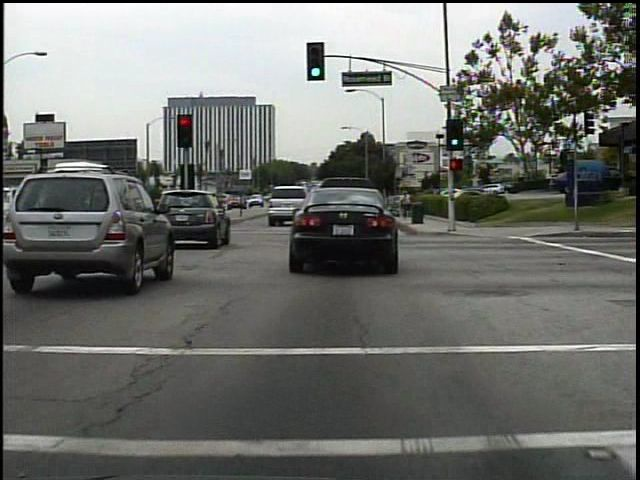person: (398, 187, 413, 222)
